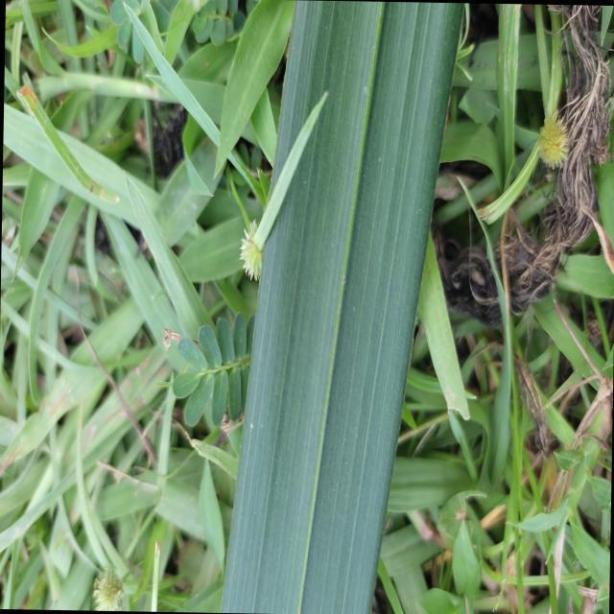Healthy: (215, 0, 466, 614)
